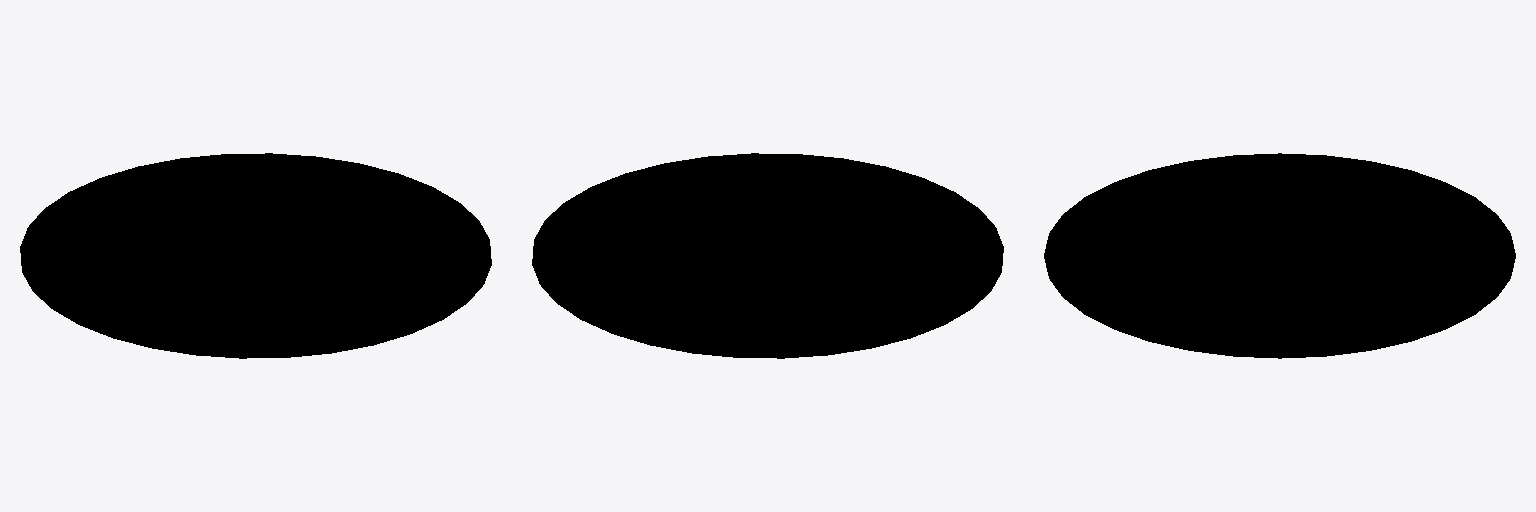
URDF robot description (cylinder):
<?xml version="1.0" ?>
<robot name="cylinder">
  <link name="base">
    <contact>
            <restitution value="0.5" />
            <rolling_friction value="0.03"/>
            <spinning_friction value="0.03"/>
    </contact>
     <inertial>
       <origin xyz="0 0 -0.05" rpy="0 0 0"/>
       <mass value="1"/>
       <inertia ixx="100"  ixy="0"  ixz="0" iyy="100" iyz="0" izz="100" />
     </inertial>

     <visual>
       <origin xyz="0 0 0" rpy="0 0 0"/>
       <geometry>
         <cylinder radius="0.35" length="0.01"/>
       </geometry>
       <material name="black">
         <color rgba="0 0 0 1.0"/>
       </material>
     </visual>

     <collision>
       <origin xyz="0 0 0" rpy="0 0 0"/>
       <geometry>
         <cylinder radius="0.35" length="0.01"/>
       </geometry>
     </collision>
   </link>
</robot>

--- Facts derived from the render (not from the file) ---
3 views of the same robot in one strip: view 1: azimuth 30°, elevation 25°; view 2: azimuth 150°, elevation 25°; view 3: azimuth 270°, elevation 25° (orthographic).
Robot: cylinder — 1 links, 0 joints (none); root link base; default pose: every joint at zero.
Links seen in each view (by area): view 1: base; view 2: base; view 3: base.
Boxes of the visible links, x1,y1,x2,y2 form: base: (20, 153, 491, 358); base: (532, 153, 1003, 358); base: (1044, 153, 1515, 358).
Size in the robot's own frame: 0.7 by 0.7 by 0.01 metres.
Geometry: primitives only (box / cylinder / sphere), no mesh files.
